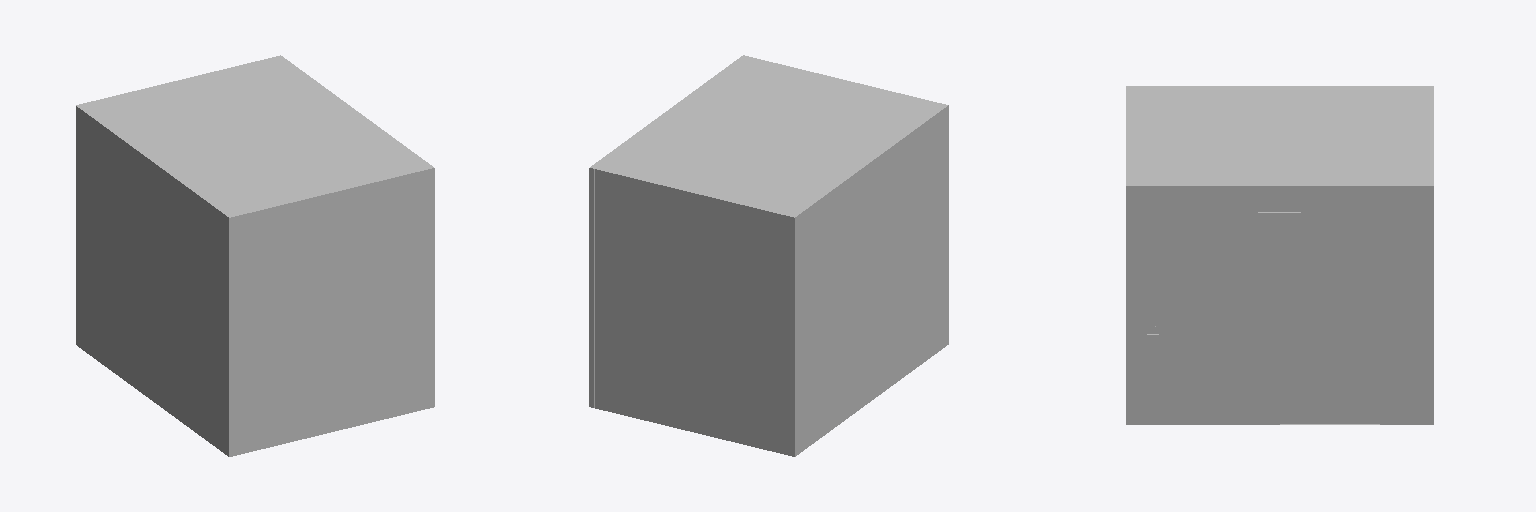
The model's file is elevator2.obj.
3 views of the same model, side by side, from view 1: azimuth 30°, elevation 25°; view 2: azimuth 150°, elevation 25°; view 3: azimuth 270°, elevation 25° (orthographic).
Parts seen in each view (by area): view 1: obj1; view 2: obj1; view 3: obj1, obj4, obj5, obj2, obj10.
Part boxes in pixels (x1,y1,x2,y2): obj1: (76, 55, 434, 456); obj1: (589, 55, 948, 456); obj1: (1126, 86, 1433, 424); obj4: (1180, 239, 1279, 424); obj5: (1280, 239, 1379, 423); obj2: (1164, 225, 1394, 424); obj10: (1258, 212, 1300, 227).
Size of the model in its own units: 599 by 662 by 771.